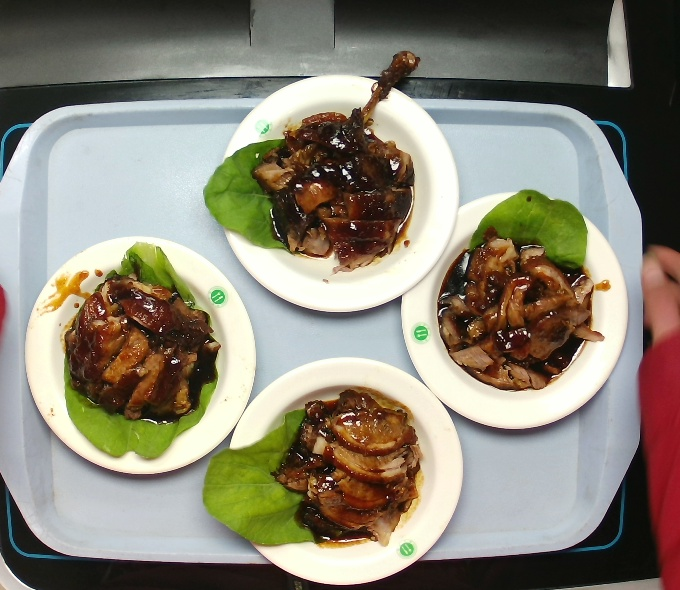wcq-MiZhiYa: (219, 78, 423, 279), (220, 374, 427, 559), (426, 198, 611, 398), (46, 256, 228, 455)
